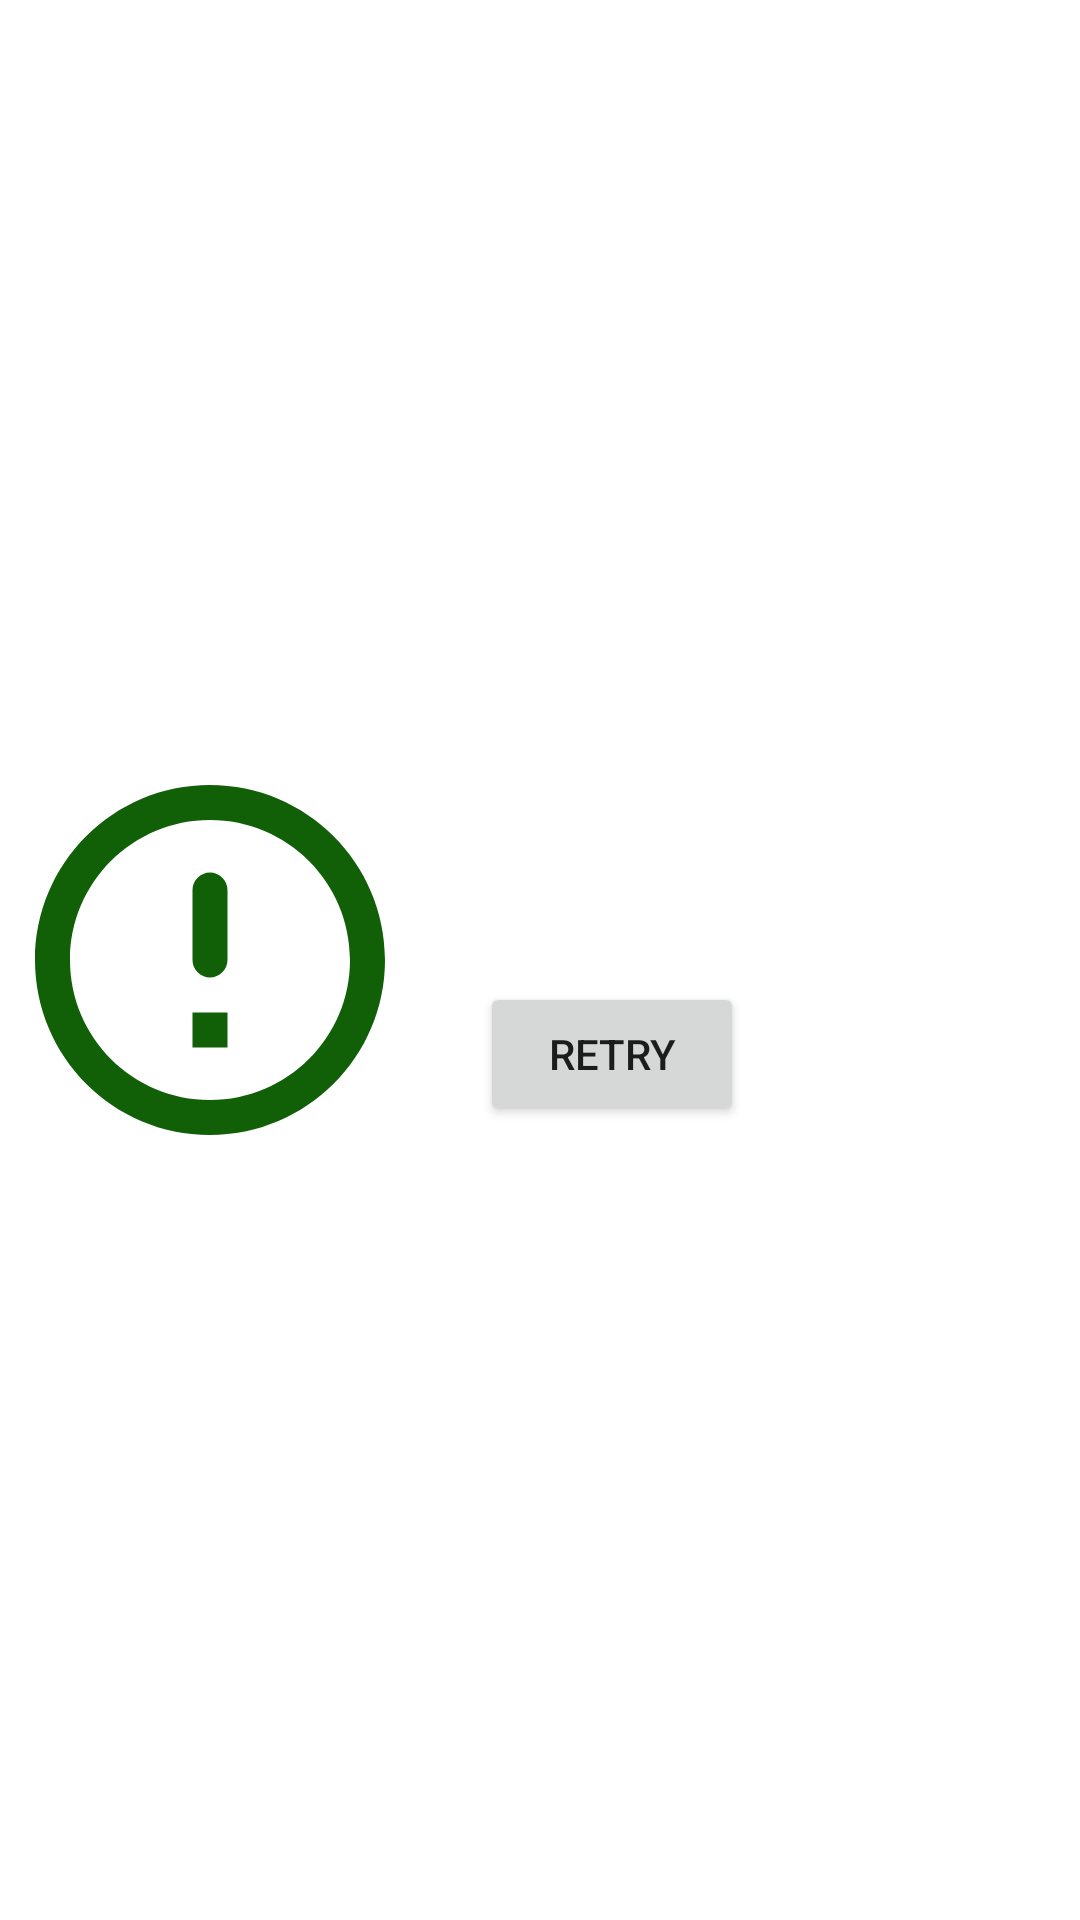

Point at icon controls on the screen. Image size 1080×1920, points as point (x, y).
error: point (210, 960)
